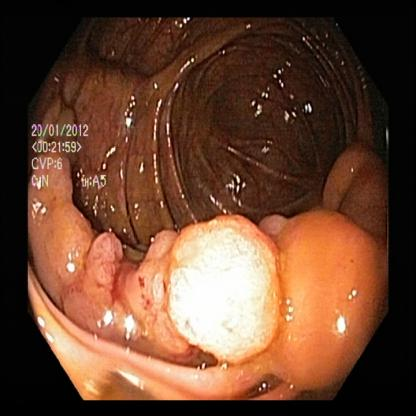Labels: (27, 114, 125, 216)
Polyps: (132, 223, 285, 360), (286, 220, 382, 365), (38, 225, 137, 326), (328, 149, 390, 218)
